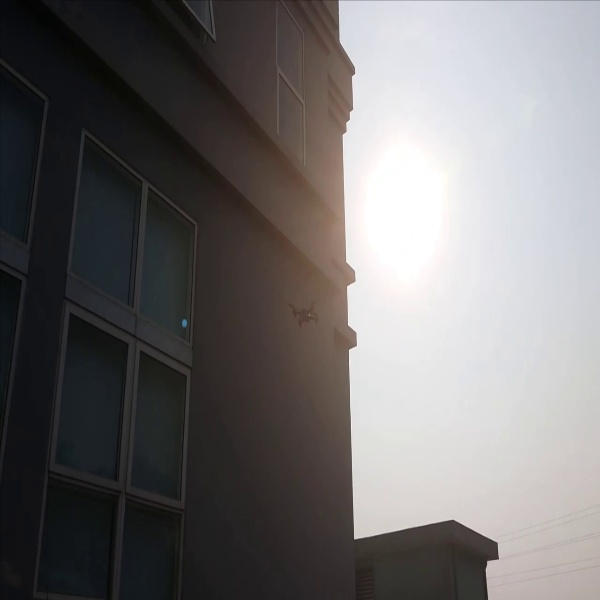drone: (286, 296, 323, 330)
